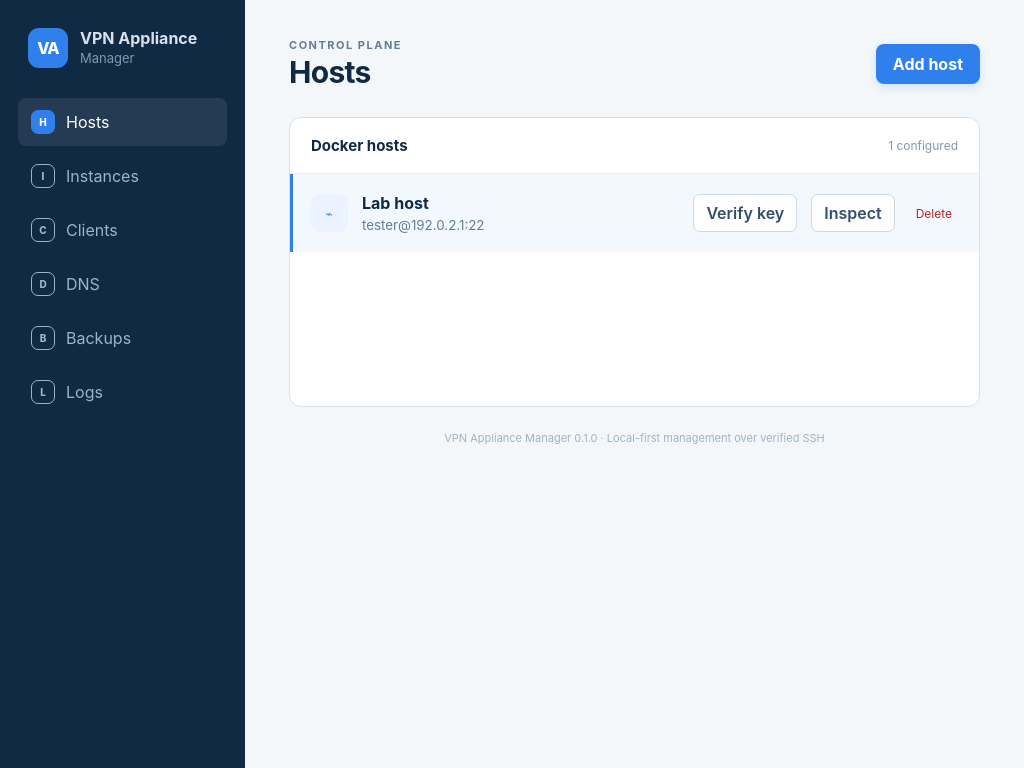
Test case: desktop application workflows › reviews identity and safety impact before restoring an exact backup
Expected: the text "Lab host" is shown, [362,193,429,213]
Click the button "B Backups": (122, 338) [18,314,227,362]
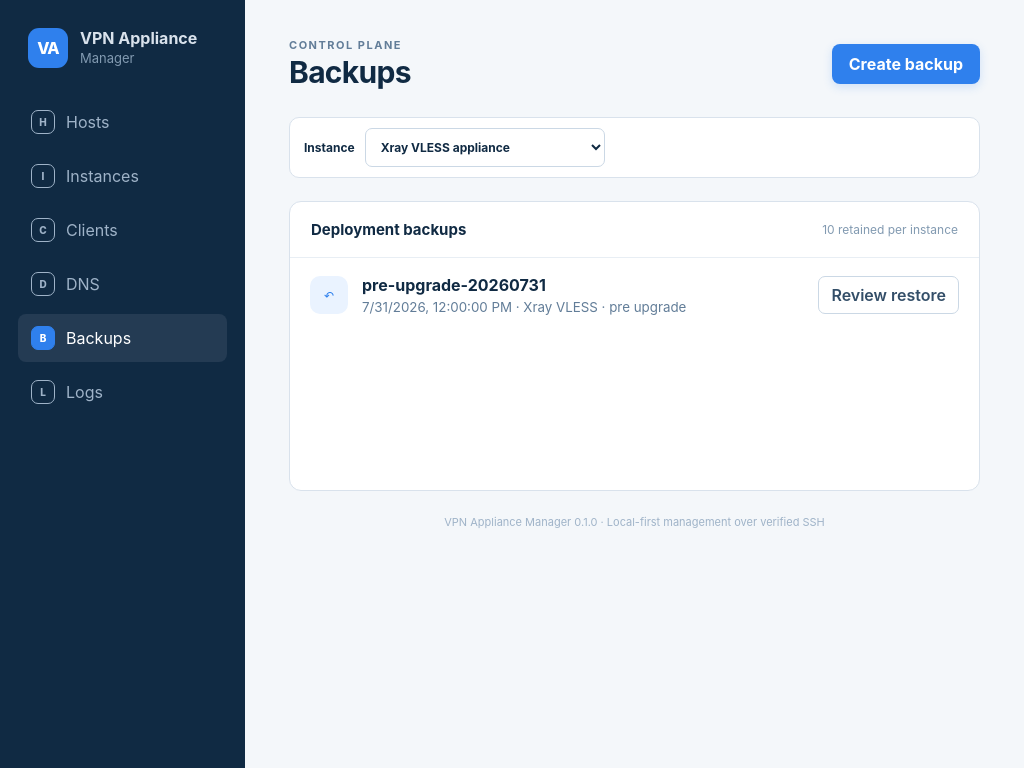
Click the button "Review restore": (889, 295) [818,276,959,314]
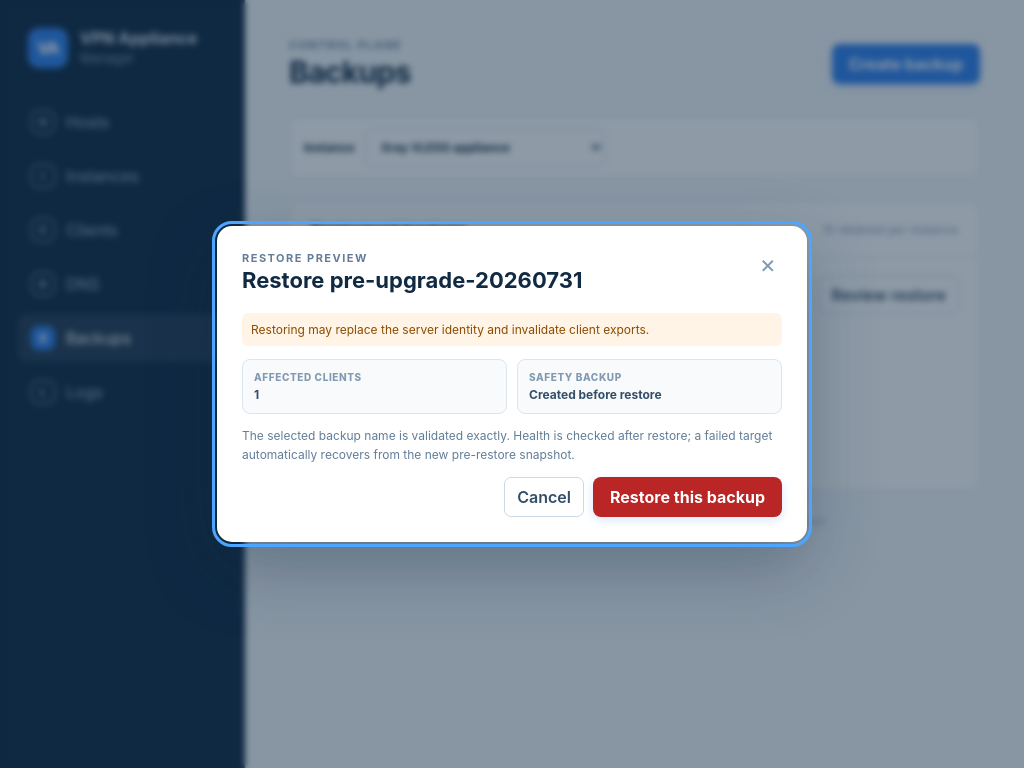
Now the text "Restoring may replace the server identity and invalidate client exports." is shown, box [242,313,782,346]
Now the text "Created before restore" is shown, box [529,387,662,402]
Now the button "Restore this backup" is shown, box [593,477,782,517]
